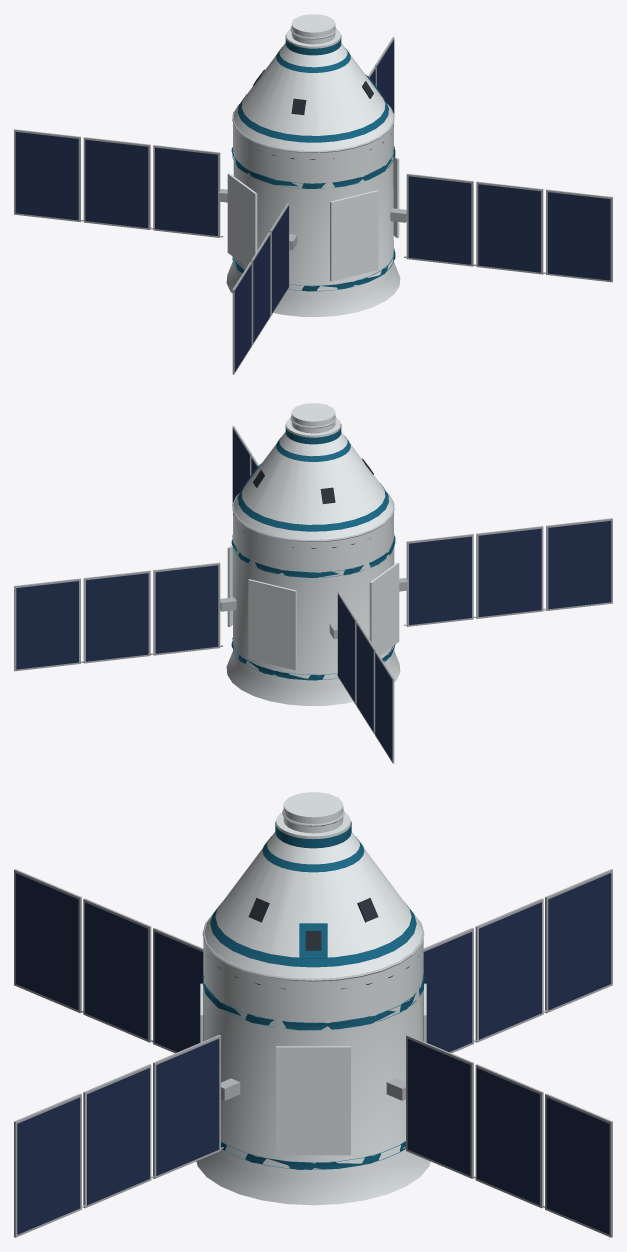
The model's file is cap_deep_space.glb.
3 renders of one model, top to bottom at view 1: azimuth 30°, elevation 25°; view 2: azimuth 150°, elevation 25°; view 3: azimuth 270°, elevation 25°, orthographic. The views are drawn at different scales.
Parts seen in each view (by area): view 1: cap_deep_space_service_module_mesh, cap_deep_space_mesh; view 2: cap_deep_space_service_module_mesh, cap_deep_space_mesh; view 3: cap_deep_space_service_module_mesh, cap_deep_space_mesh.
Part boxes in pixels (left/top/right/bottom): cap_deep_space_service_module_mesh: left=14, top=37, right=612, bottom=374; cap_deep_space_mesh: left=232, top=14, right=394, bottom=181; cap_deep_space_service_module_mesh: left=14, top=426, right=612, bottom=763; cap_deep_space_mesh: left=232, top=403, right=394, bottom=570; cap_deep_space_service_module_mesh: left=14, top=869, right=612, bottom=1237; cap_deep_space_mesh: left=202, top=792, right=424, bottom=1019.
Size of the model in its own units: 13.61 by 8.79 by 13.61.
